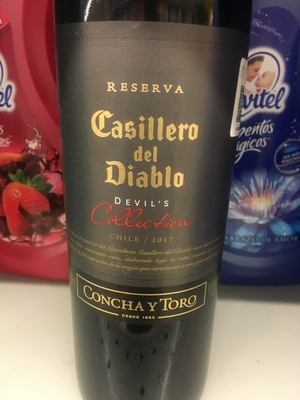casillero del diablo devils collection rojo: (54, 3, 245, 396)
